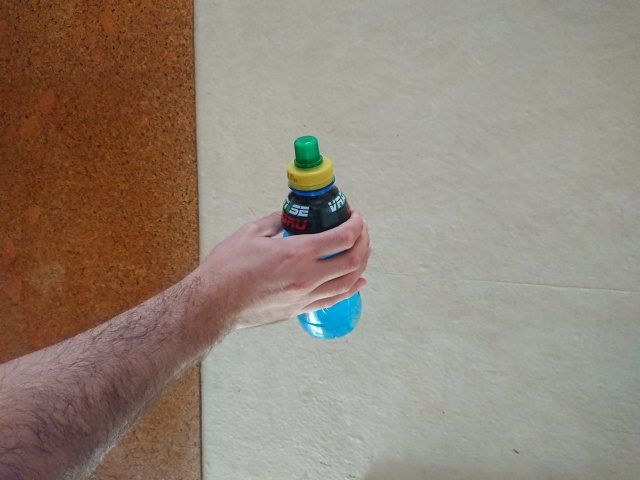Vindi Iso Sport Forest Strawberries 500mL: (278, 133, 363, 341)
